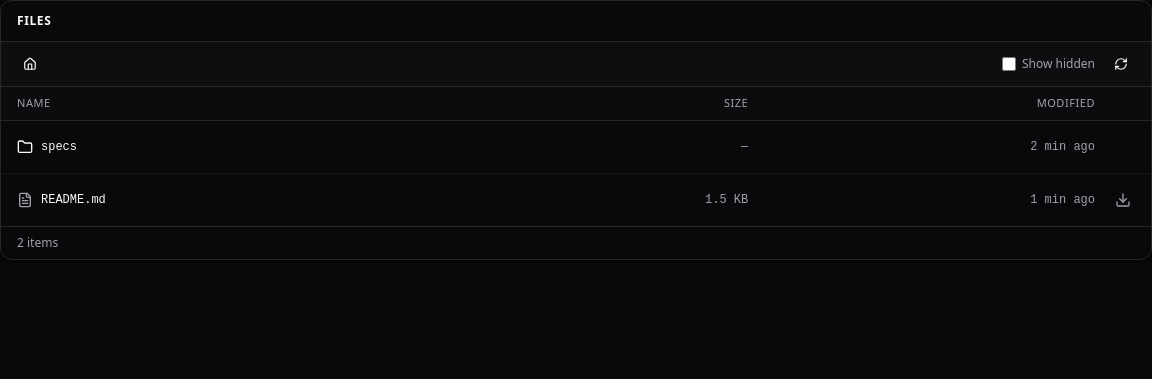
FilesPanel › ignores slow earlier response after rapid second navigation
This screenshot has width=1152, height=379.
Expected: the text "specs" is shown, [41,138,77,154]
Click the button "specs" at (59, 146), box [13,128,494,164]
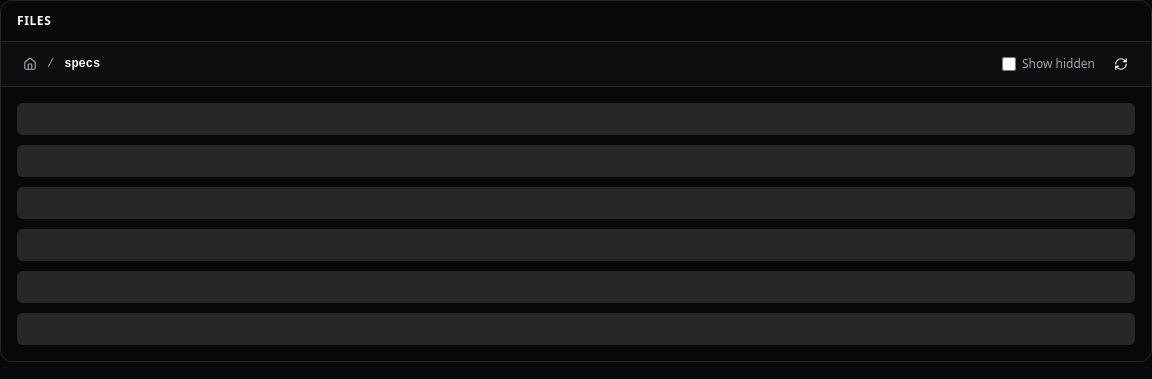
Note: Before first resolves, jump back to root via breadcrumb
Click the button named "Workspace root" at (30, 64), box [17,50,43,78]
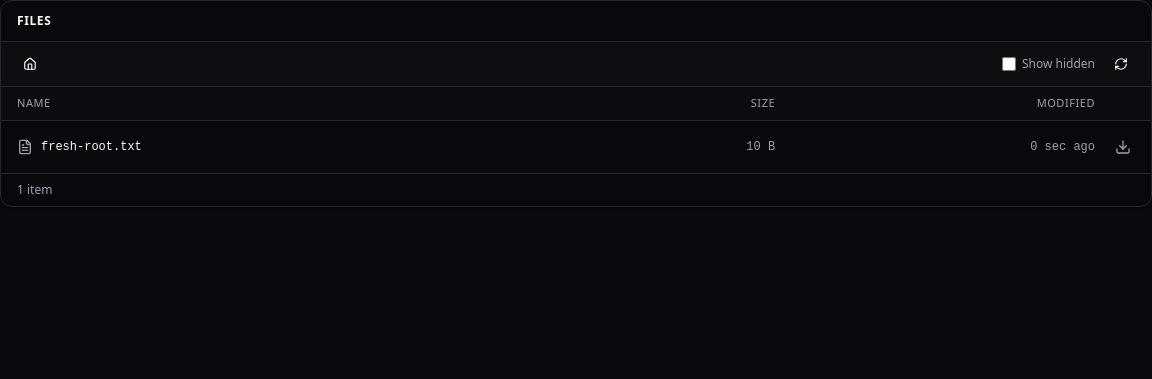
Expected: the text "fresh-root.txt" is shown, [41,138,142,154]
